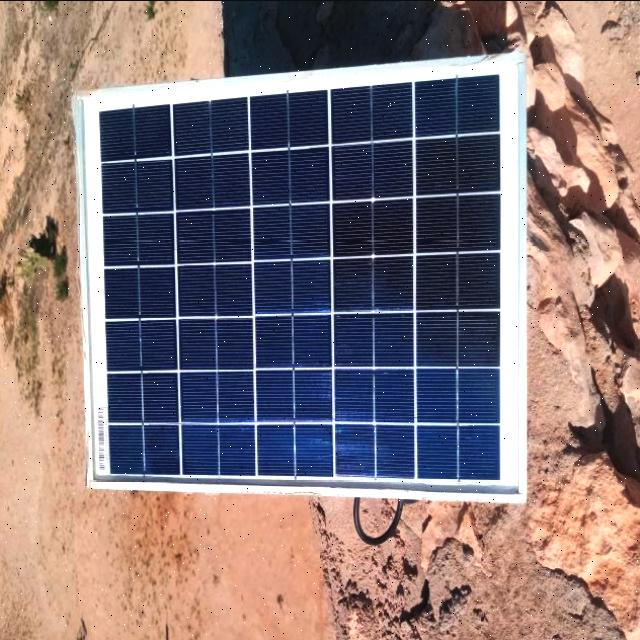Normal Solar Panel: (81, 56, 525, 500)
